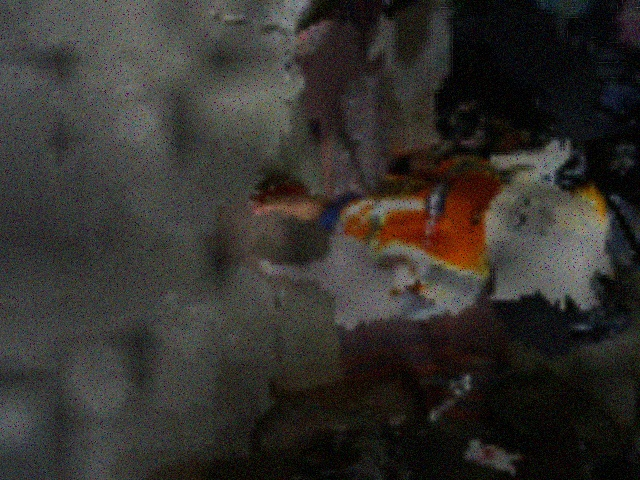one: (514, 198, 555, 237)
